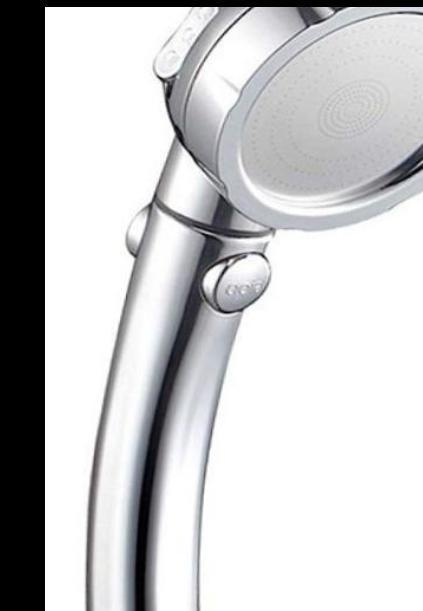Ducha: (26, 0, 423, 611)
